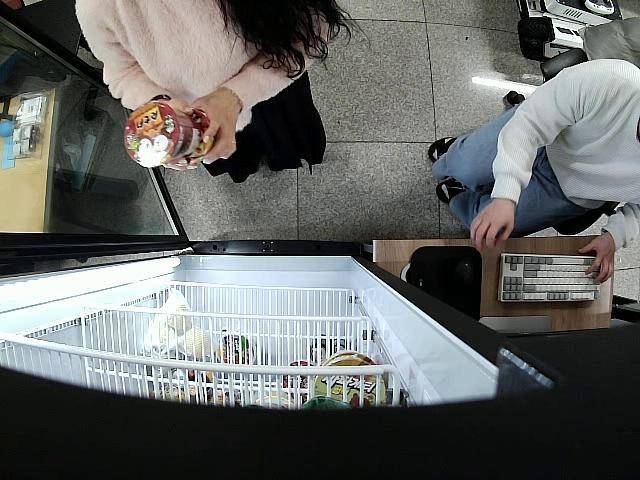06_nuguri_S: (122, 102, 197, 162), (178, 111, 218, 168)
